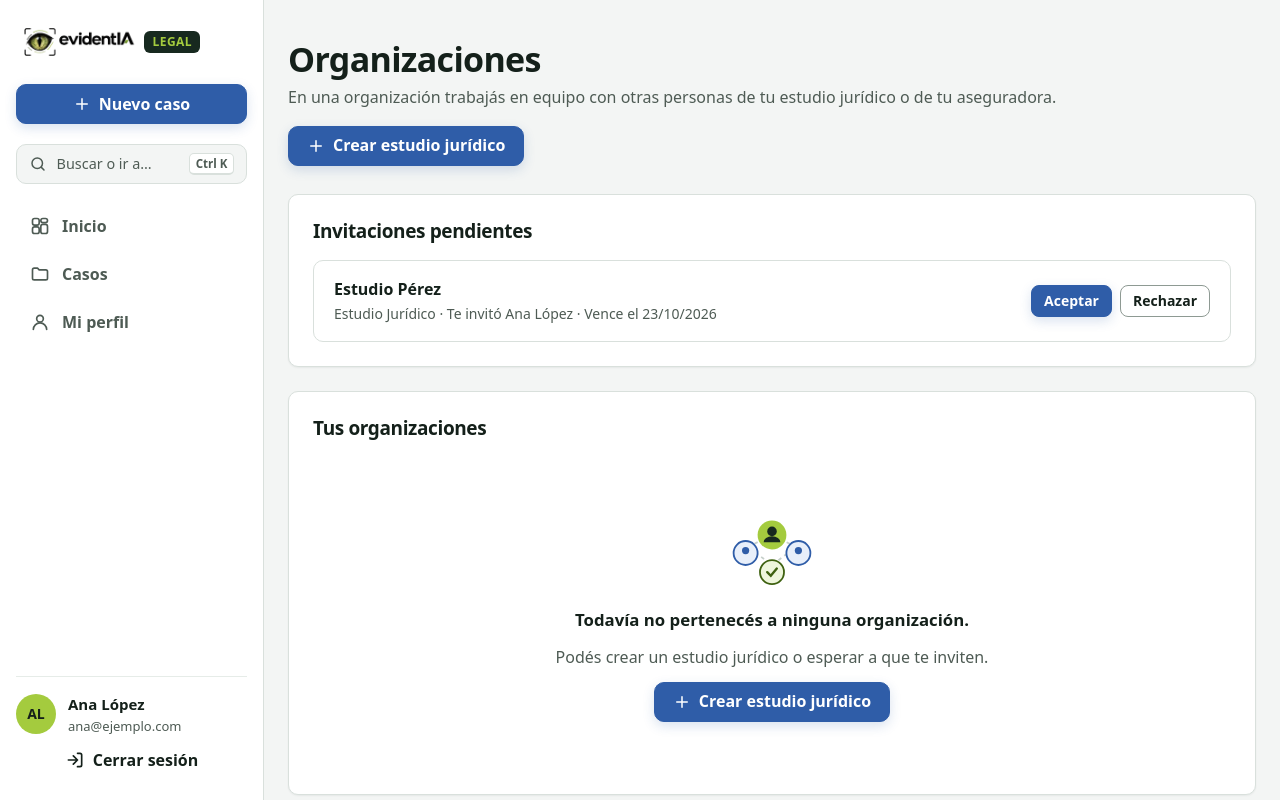
Scenario: mis organizaciones › rechazar una invitación la quita de la lista (CA10)
Click the button with aria-label "Rechazar la invitación de Estudio Pérez": (1165, 301) [1120, 285, 1210, 317]
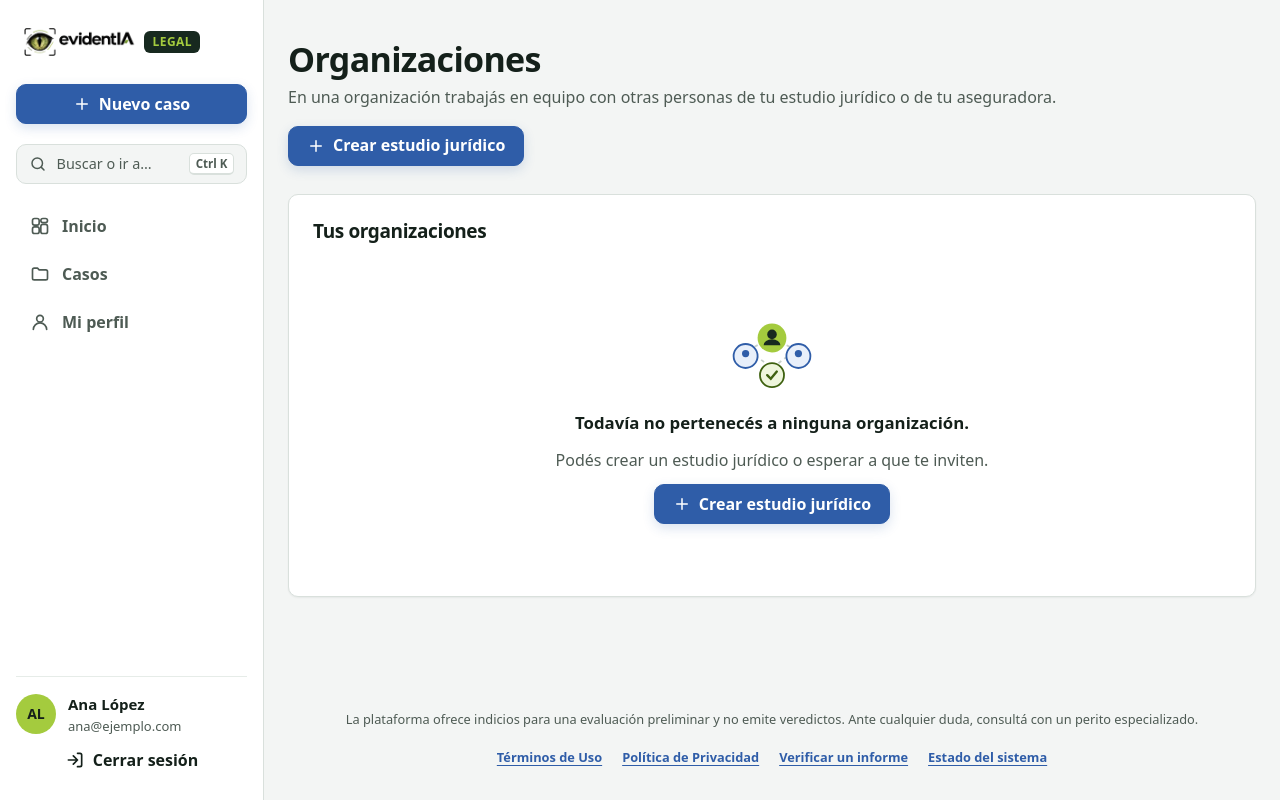
Check: the text "Todavía no pertenecés a ninguna organización." is shown, box [575, 410, 969, 436]
Check: the text "Te invitó" is gone
